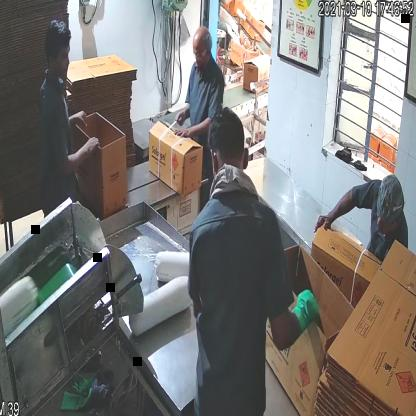glove: (285, 278, 324, 340)
no_glove: (307, 178, 361, 244), (56, 134, 102, 172), (174, 116, 215, 151), (173, 100, 199, 144)
